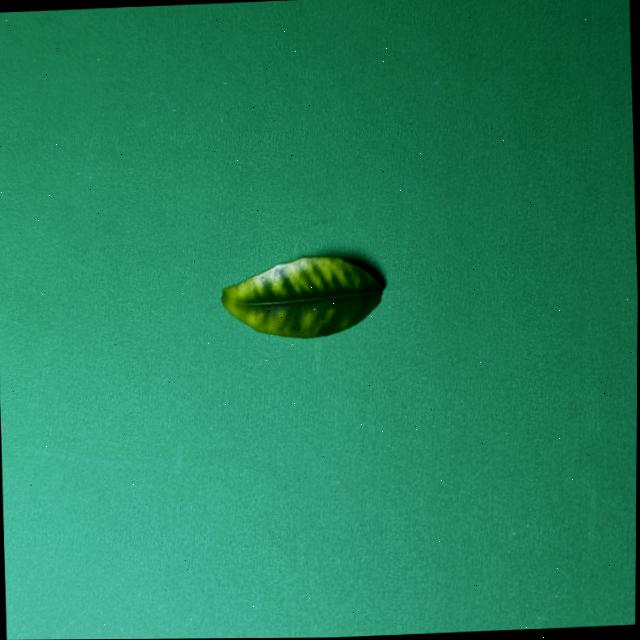greening: (222, 255, 381, 336)
